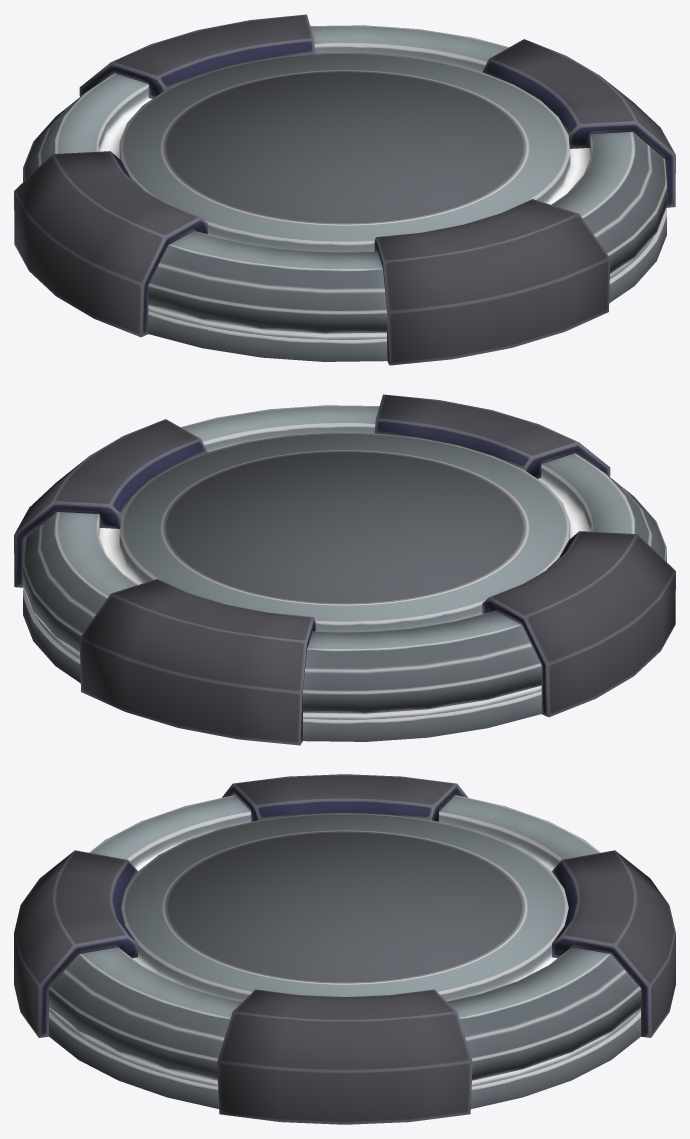
The model's file is PodiumLobby.fbx.
The picture shows the model from 3 angles, top to bottom: view 1: azimuth 30°, elevation 25°; view 2: azimuth 150°, elevation 25°; view 3: azimuth 270°, elevation 25°; orthographic projection.
Visible parts, largest first — view 1: PodiumLobby; view 2: PodiumLobby; view 3: PodiumLobby.
Boxes of the visible parts, box(x1,y1,x2,y2) form: PodiumLobby: box(14, 14, 675, 365); PodiumLobby: box(14, 394, 675, 745); PodiumLobby: box(14, 774, 675, 1124).
Size of the model in its own units: 1.55 by 0.2253 by 1.55.
